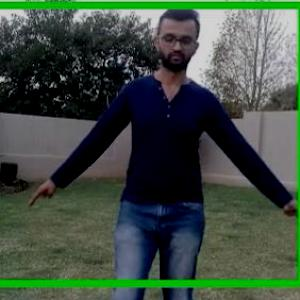land: (23, 30, 299, 299)
